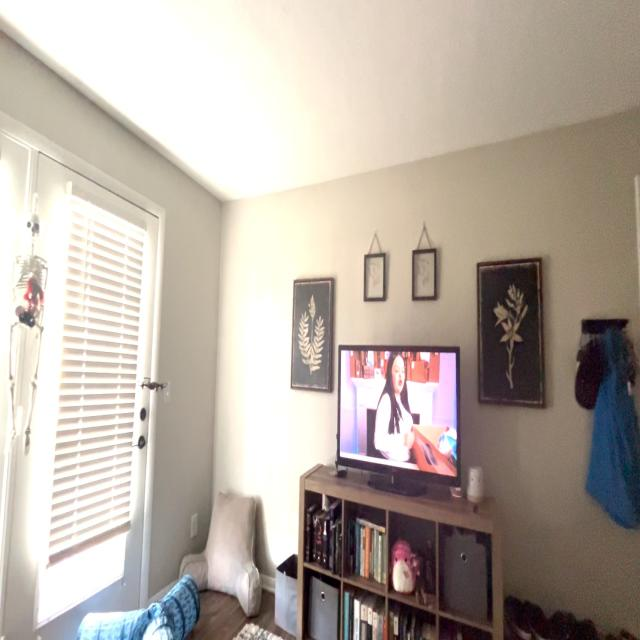drone: (130, 369, 178, 411)
